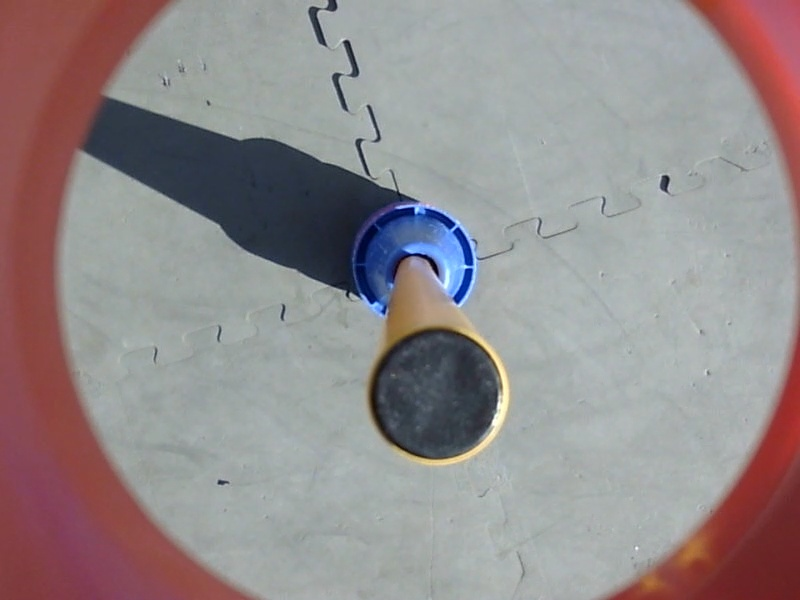tip: (361, 322, 518, 470)
